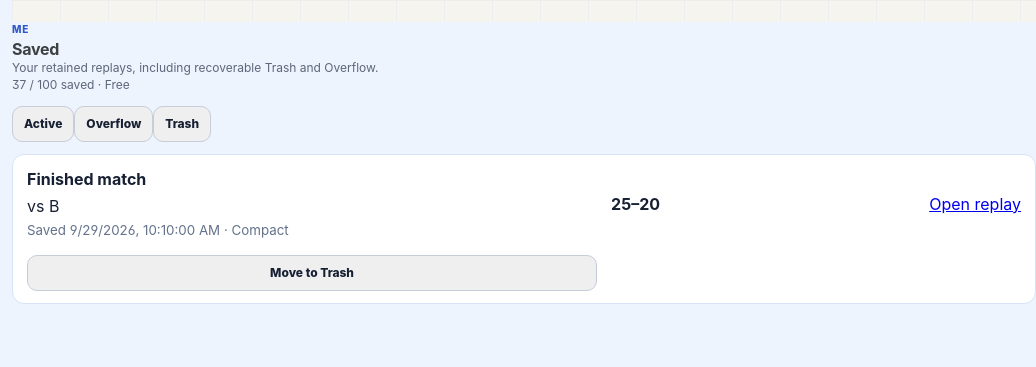
Scenario: Me Saved surface › shows Overflow and Trash actions and reports a capacity refusal
This screenshot has width=1036, height=367.
Click the button "Overflow".
click(114, 124)  # box 74,106 -> 153,142
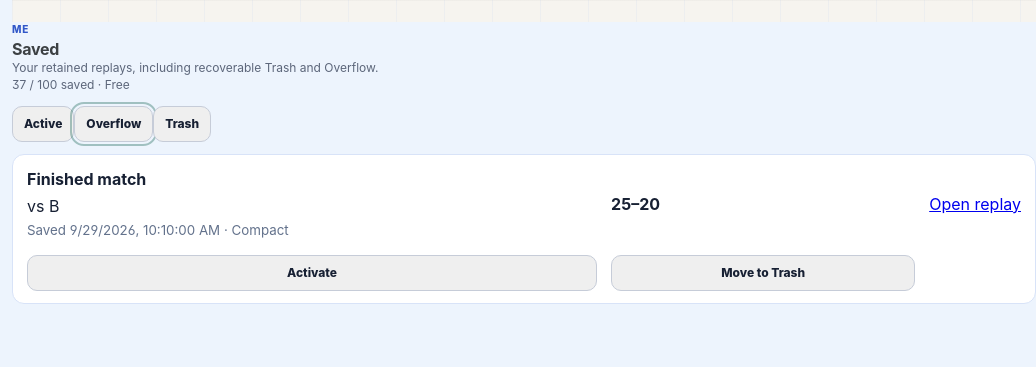
Click the button "Activate".
click(312, 273)  # box 27,255 -> 597,291
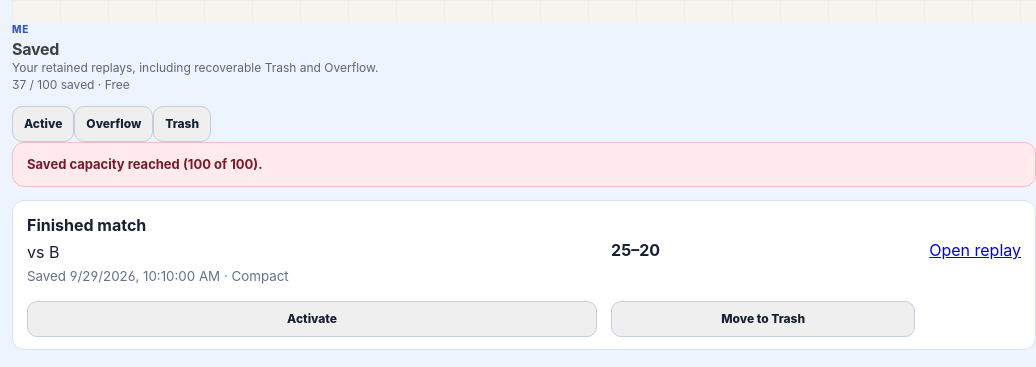
Now the message shows "Saved capacity reached", box 27,156 -> 263,172
Click the button "Move to Trash".
click(763, 319)  # box 611,301 -> 915,337
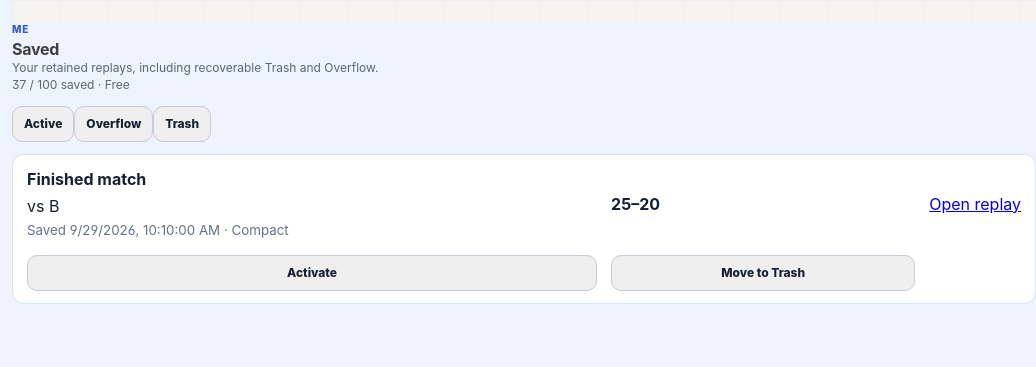
Click the button "Trash".
click(182, 124)  # box 153,106 -> 211,142
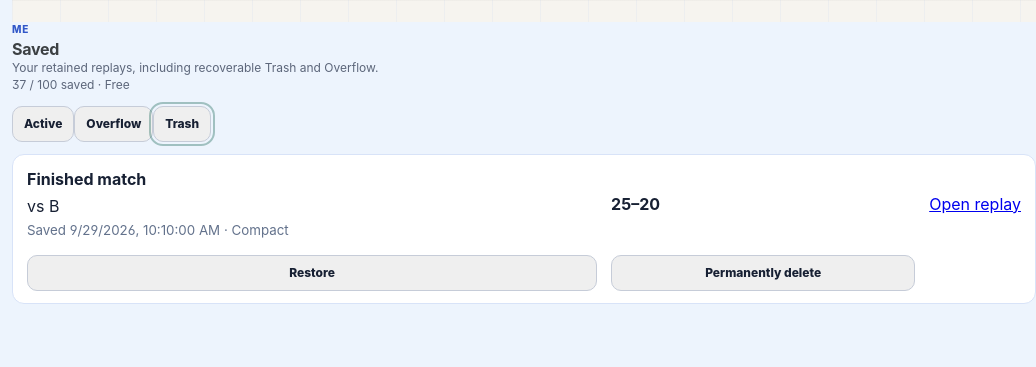
Now the button "Restore" is shown, box 27,255 -> 597,291
Click the button "Permanently delete".
click(763, 273)  # box 611,255 -> 915,291
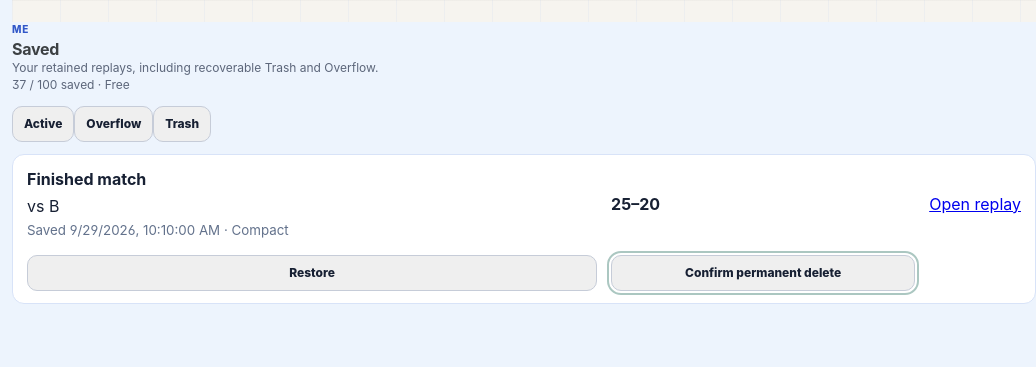
Now the button "Confirm permanent delete" is shown, box 611,255 -> 915,291
